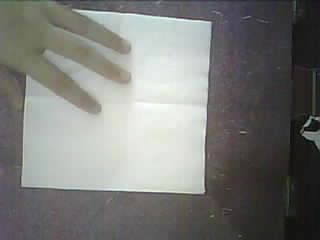paper: (23, 5, 210, 192)
